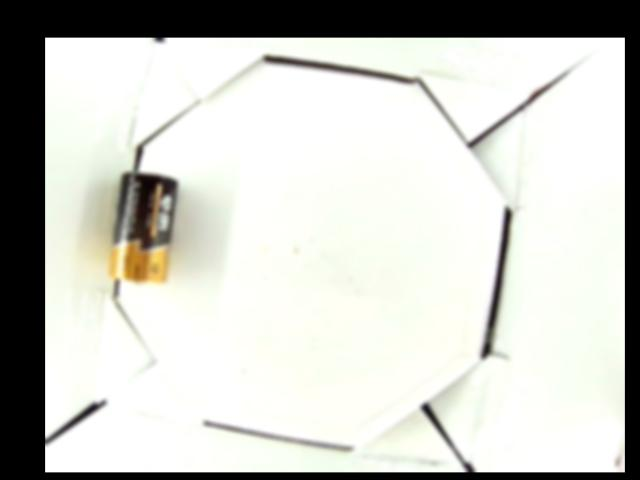Battery: (107, 170, 178, 283)
